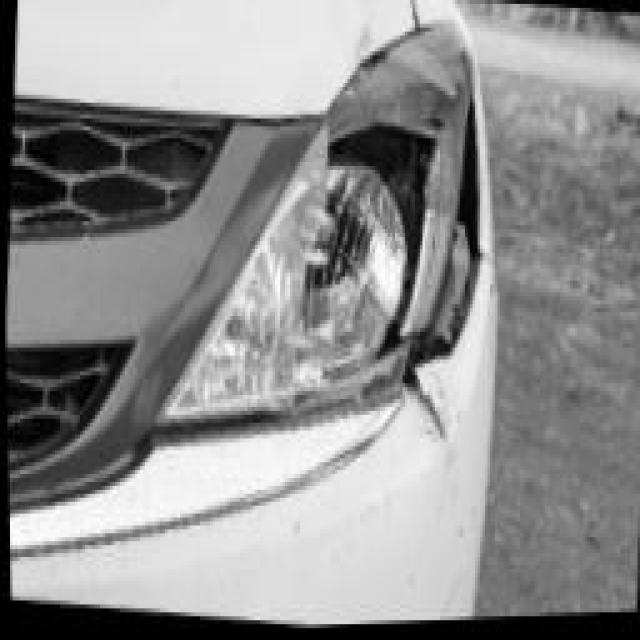Bumper: (358, 348, 486, 593)
Light: (222, 36, 478, 432)
